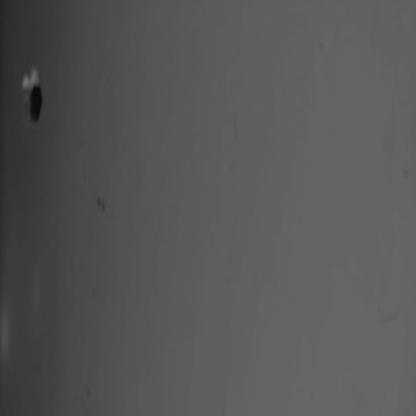kongdong: (8, 61, 59, 139)
